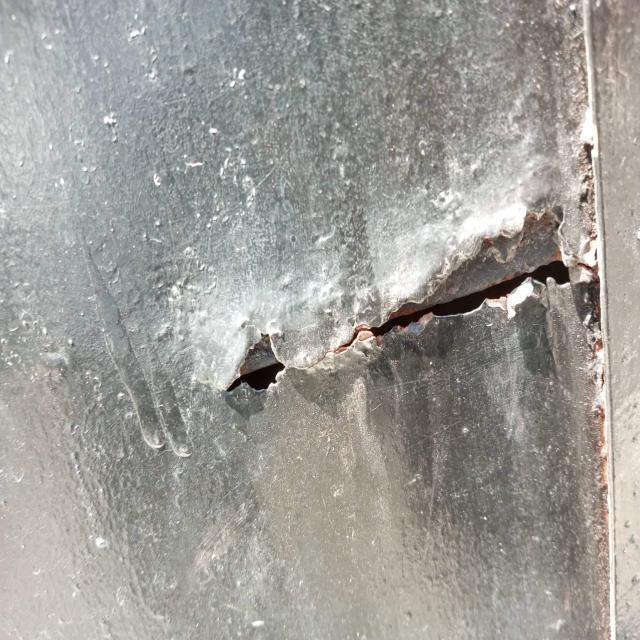Crack: (220, 201, 580, 404)
